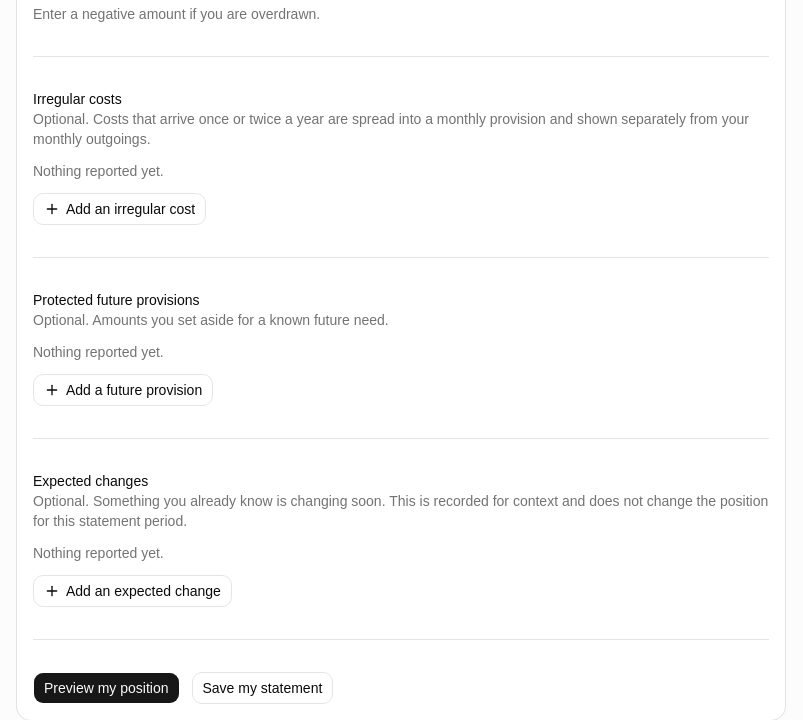
Test: StatementEditor › never describes the previewed position as proof of affordability
(page scrolled)
Click the button "Preview my position".
click(106, 688)  # box [33,672,180,704]
(page scrolled)
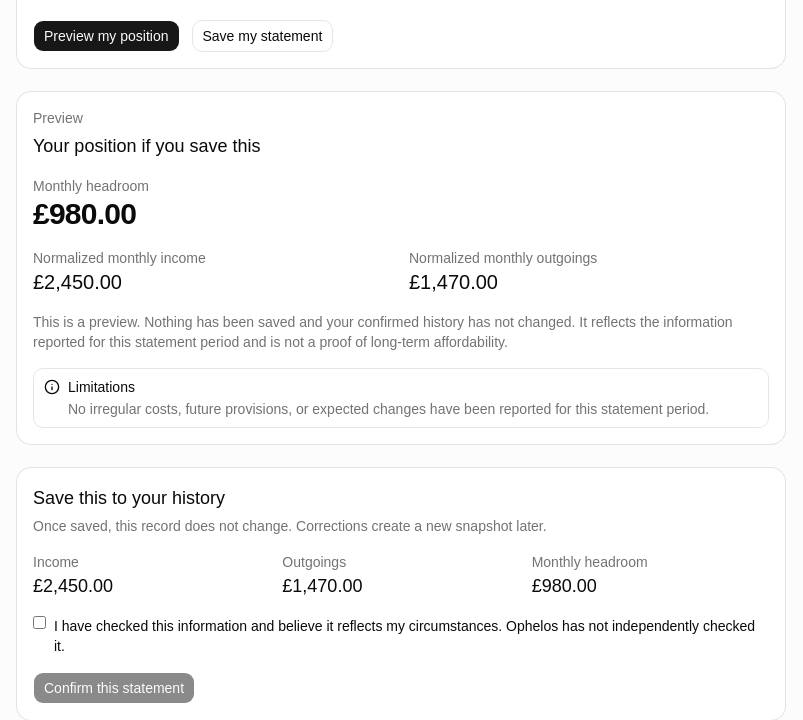
Now the text "not a proof of long-term affordability" is shown, box [33,314,733,350]
Now the list item "No irregular costs, future provisions, or expected changes" is shown, box [68,401,709,417]
